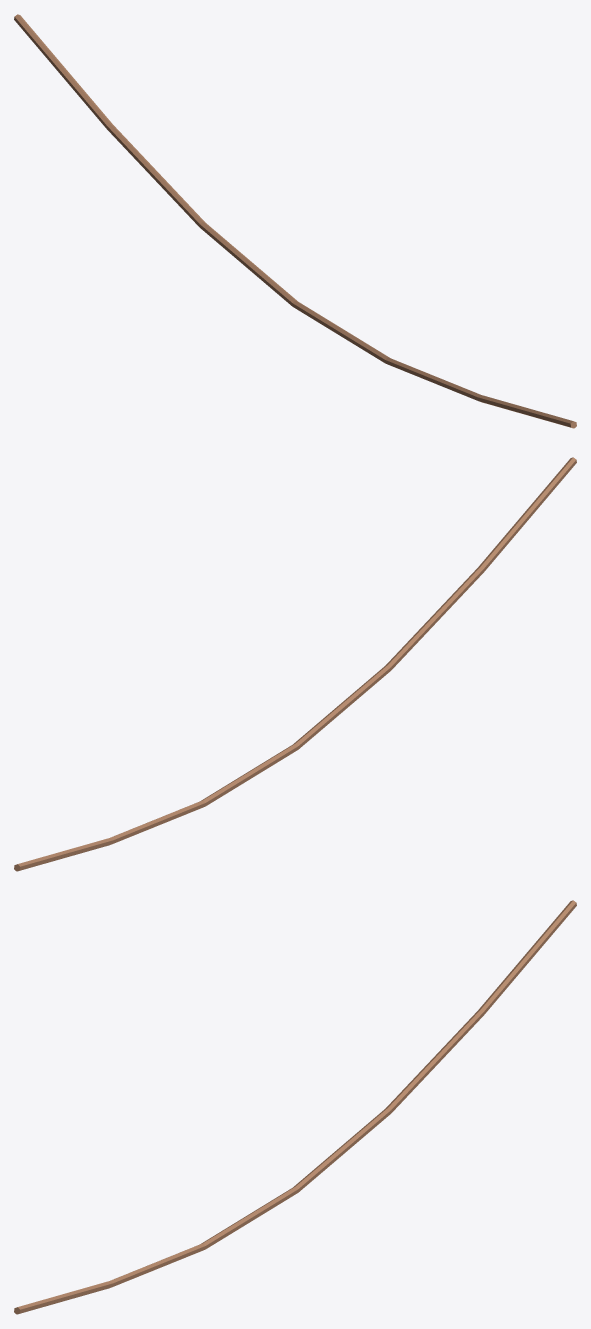
Rendered from MooringLine.fbx.
3 views of the same model, one above another, from view 1: azimuth 30°, elevation 25°; view 2: azimuth 150°, elevation 25°; view 3: azimuth 330°, elevation 25° (orthographic).
Visible parts, largest first — view 1: LOD0; view 2: LOD0; view 3: LOD0.
Part boxes in pixels (bbox=[...]): LOD0: bbox=[14, 14, 576, 428]; LOD0: bbox=[14, 457, 576, 871]; LOD0: bbox=[14, 900, 576, 1314].
Size of what is drawn, in the model's own units: 2.08 by 30.36 by 341.
